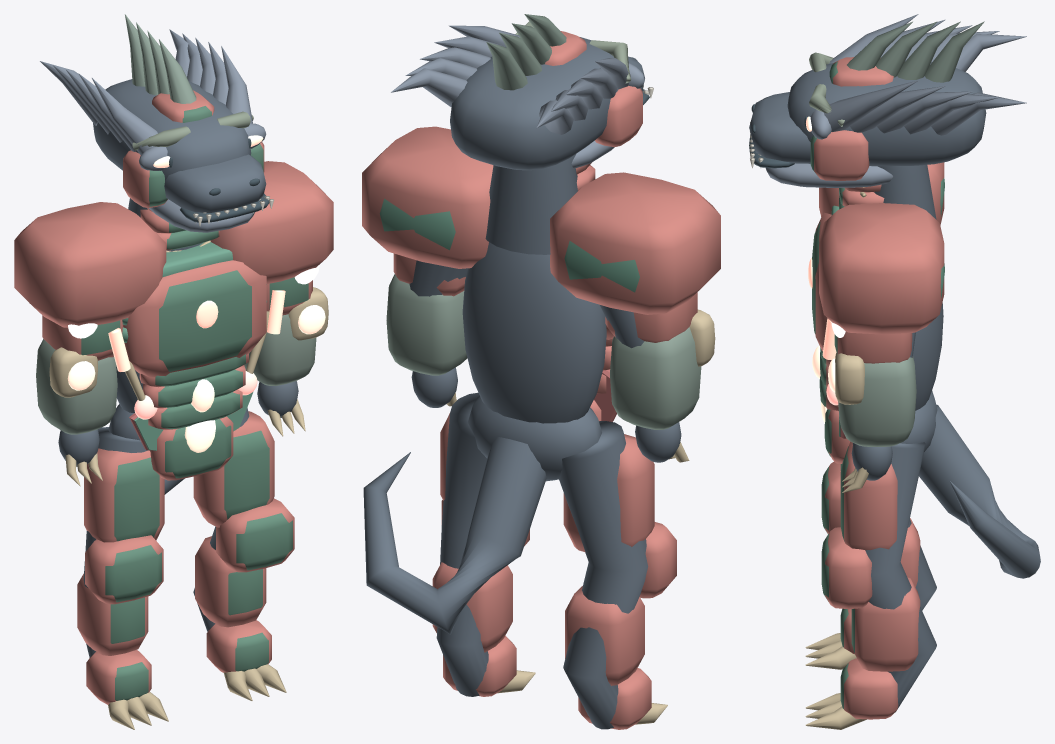
Rendered from tyronihlus.glb.
3 renders of one model, left to right at view 1: azimuth 30°, elevation 25°; view 2: azimuth 150°, elevation 25°; view 3: azimuth 270°, elevation 25°, orthographic. The views are drawn at different scales.
Visible parts, largest first — view 1: Reptillian 2 reinforced pauldron -1 armour rim, Reptillian 2 reinforced pauldron 1 armour rim, Reptillian 2 closed breastplate armour plate, Long angular dragon cranium, Reptillian 2 closed breastplate armour rim, Tapered muzzle, Left forearm mechanical bracer, Reptillian 2 thigh cuirass -1 armour plate, Reptillian 2 thigh cuirass 1 armour plate, Reptillian 2 thigh cuirass -1 armour rim, Reptillian 2 shin greave 1 armour rim, Right forearm mechanical bracer (+53 smaller); view 2: Scaled narrow torso, Reptillian 2 reinforced pauldron -1 armour rim, Long curling reptilian tail, Left digitigrade leg, Reptillian 2 reinforced pauldron 1 armour rim, Long angular dragon cranium, Right digitigrade leg, Left forearm mechanical bracer, Long reptilian neck, Right forearm mechanical bracer, Scaled hip, Reptillian 2 shin greave -1 armour rim (+32 smaller); view 3: Reptillian 2 reinforced pauldron 1 armour rim, Long curling reptilian tail, Long angular dragon cranium, Right digitigrade leg, Right forearm mechanical bracer, Reptillian 2 shin greave 1 armour rim, Reptillian 2 thigh cuirass 1 armour rim, Tapered muzzle, Reptillian 2 knee shield 1 armour rim, Reptillian 2 ankle guard 1 armour rim, Reptillian 2 cheek guard 1 armour rim, Reptillian 2 biceps guard 1 armour rim (+28 smaller).
Part boxes in pixels (x1=…): Reptillian 2 reinforced pauldron -1 armour rim: x1=14, y1=202, x2=166, y2=327; Reptillian 2 reinforced pauldron 1 armour rim: x1=210, y1=161, x2=333, y2=283; Reptillian 2 closed breastplate armour plate: x1=159, y1=270, x2=251, y2=371; Long angular dragon cranium: x1=93, y1=79, x2=251, y2=180; Reptillian 2 closed breastplate armour rim: x1=123, y1=260, x2=266, y2=377; Tapered muzzle: x1=164, y1=154, x2=266, y2=212; Left forearm mechanical bracer: x1=36, y1=339, x2=117, y2=434; Reptillian 2 thigh cuirass -1 armour plate: x1=114, y1=457, x2=159, y2=541; Reptillian 2 thigh cuirass 1 armour plate: x1=224, y1=430, x2=269, y2=519; Reptillian 2 thigh cuirass -1 armour rim: x1=84, y1=448, x2=164, y2=542; Reptillian 2 shin greave 1 armour rim: x1=195, y1=536, x2=266, y2=627; Right forearm mechanical bracer: x1=244, y1=314, x2=316, y2=385; Scaled narrow torso: x1=462, y1=242, x2=606, y2=423; Reptillian 2 reinforced pauldron -1 armour rim: x1=550, y1=172, x2=720, y2=314; Long curling reptilian tail: x1=363, y1=437, x2=546, y2=634; Left digitigrade leg: x1=559, y1=421, x2=648, y2=729; Reptillian 2 reinforced pauldron 1 armour rim: x1=362, y1=126, x2=493, y2=268; Long angular dragon cranium: x1=450, y1=37, x2=618, y2=170; Right digitigrade leg: x1=436, y1=392, x2=488, y2=696; Left forearm mechanical bracer: x1=610, y1=327, x2=701, y2=429; Long reptilian neck: x1=485, y1=154, x2=577, y2=254; Right forearm mechanical bracer: x1=386, y1=274, x2=467, y2=375; Scaled hip: x1=467, y1=395, x2=601, y2=481; Reptillian 2 shin greave -1 armour rim: x1=565, y1=586, x2=644, y2=685; Reptillian 2 reinforced pauldron 1 armour rim: x1=819, y1=203, x2=944, y2=334; Long curling reptilian tail: x1=919, y1=404, x2=1040, y2=578; Long angular dragon cranium: x1=787, y1=60, x2=986, y2=166; Right digitigrade leg: x1=852, y1=442, x2=936, y2=712; Right forearm mechanical bracer: x1=838, y1=356, x2=916, y2=446; Reptillian 2 shin greave 1 armour rim: x1=855, y1=577, x2=920, y2=671; Reptillian 2 thigh cuirass 1 armour rim: x1=844, y1=441, x2=897, y2=550; Tapered muzzle: x1=749, y1=92, x2=810, y2=163; Reptillian 2 knee shield 1 armour rim: x1=825, y1=527, x2=872, y2=609; Reptillian 2 ankle guard 1 armour rim: x1=844, y1=658, x2=898, y2=719; Reptillian 2 cheek guard 1 armour rim: x1=814, y1=130, x2=869, y2=180; Reptillian 2 biceps guard 1 armour rim: x1=837, y1=331, x2=912, y2=363.
Bounding box in the file's own units: 2.2 × 4.67 × 1.84.
